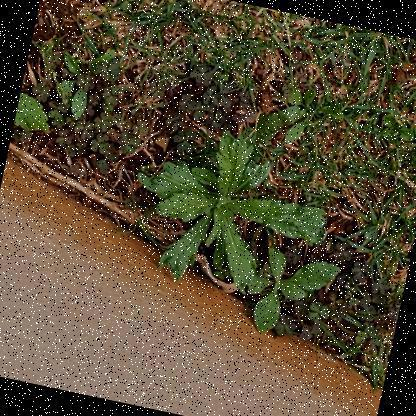Weeds: (117, 118, 343, 310), (220, 238, 342, 353), (13, 68, 61, 141)
